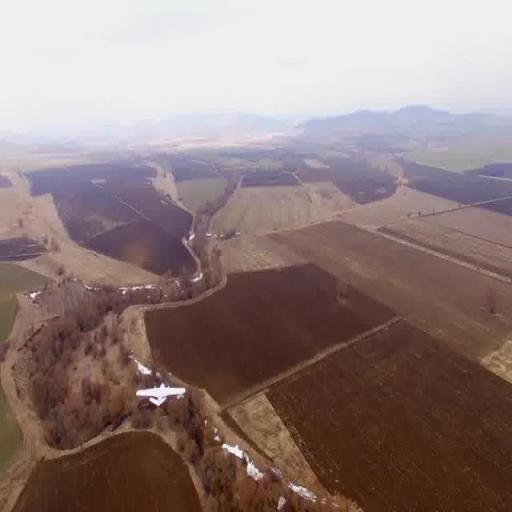uav: (135, 376, 193, 420)
